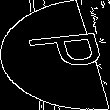P_E: (8, 33, 102, 77)
